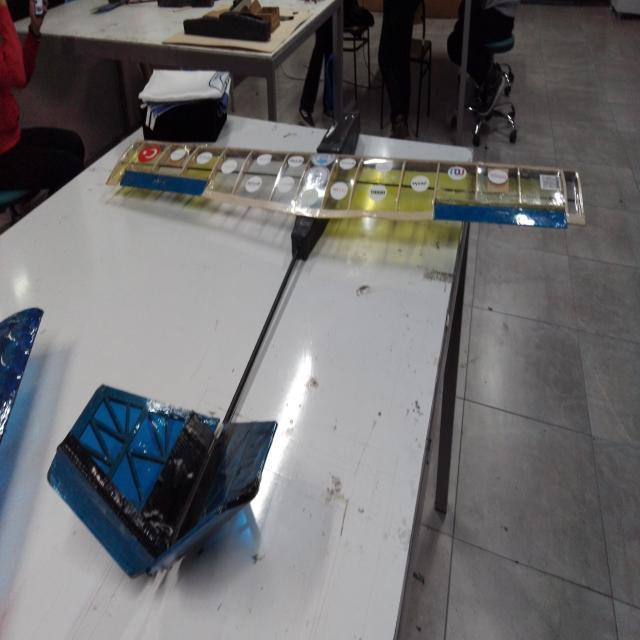iha: (52, 73, 600, 540)
